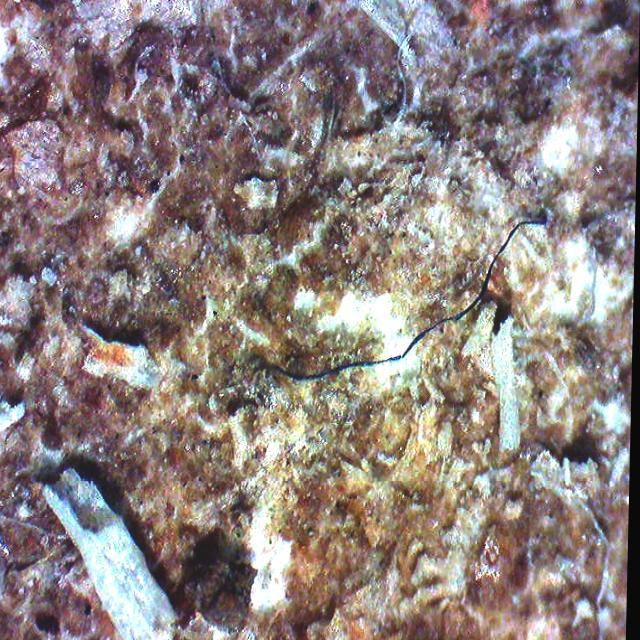microplastic: (252, 220, 546, 380)
